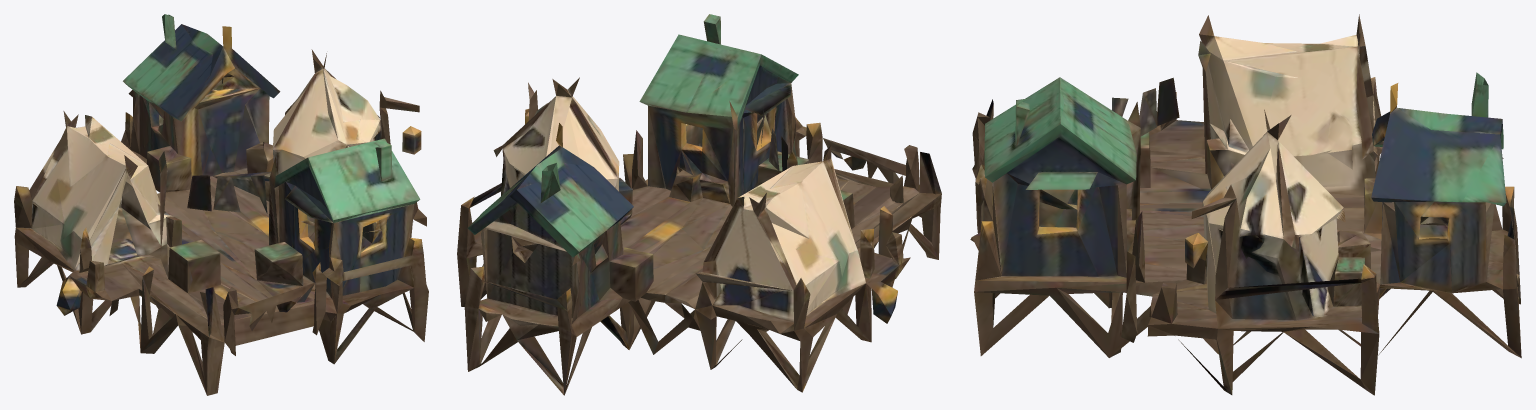
The model's file is shelters.glb.
3 views of the same model, side by side, from view 1: azimuth 30°, elevation 25°; view 2: azimuth 150°, elevation 25°; view 3: azimuth 270°, elevation 25° (orthographic). The views are drawn at different scales.
Visible parts, largest first — view 1: shelters; view 2: shelters; view 3: shelters.
Boxes of the visible parts, box(x1,y1,x2,y2) form: shelters: box(14, 14, 428, 395); shelters: box(457, 14, 941, 395); shelters: box(970, 14, 1521, 395).
Bounding box in the file's own units: 5.32e-05 × 2.92e-05 × 5.76e-05.
1 material, 1 textured.
